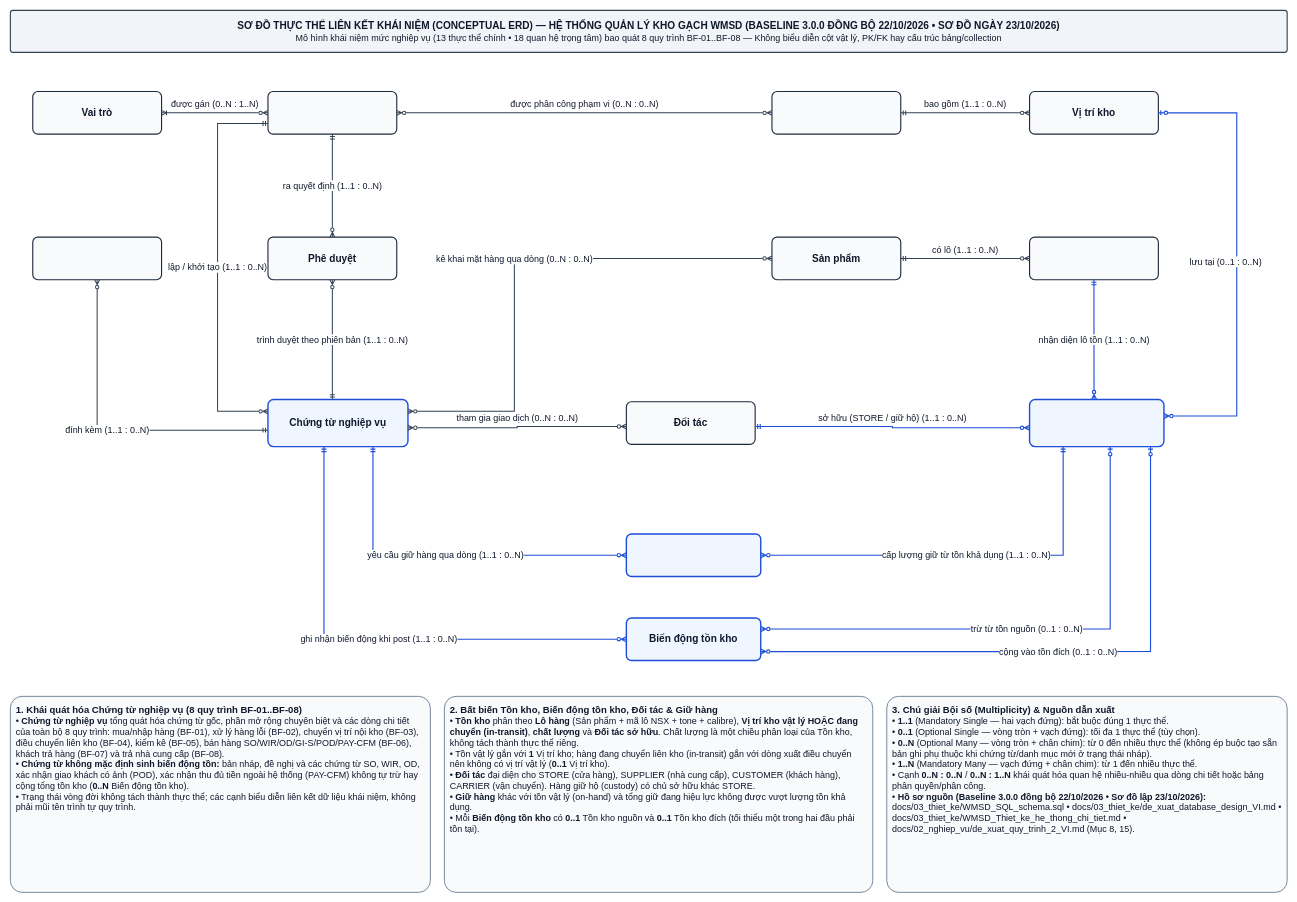
Some shapes in this 1297 by 902 pixel diagram are drawn without their labels. The centre of each missing label's shape, as x and y in pixels:
Bằng chứng: the point at 97,258
Giữ hàng: the point at 693,555
Kho: the point at 836,112
Lô hàng: the point at 1094,258
Người dùng: the point at 332,112
Tồn kho: the point at 1096,423
